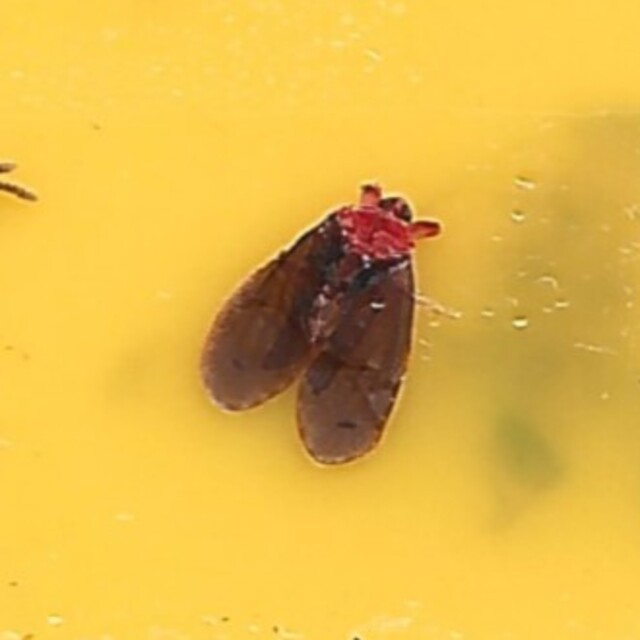Hemiptera: (194, 179, 446, 461)
